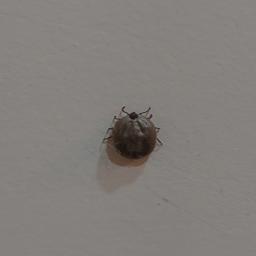Rhipicephalus sanguineus: (103, 106, 162, 158)
